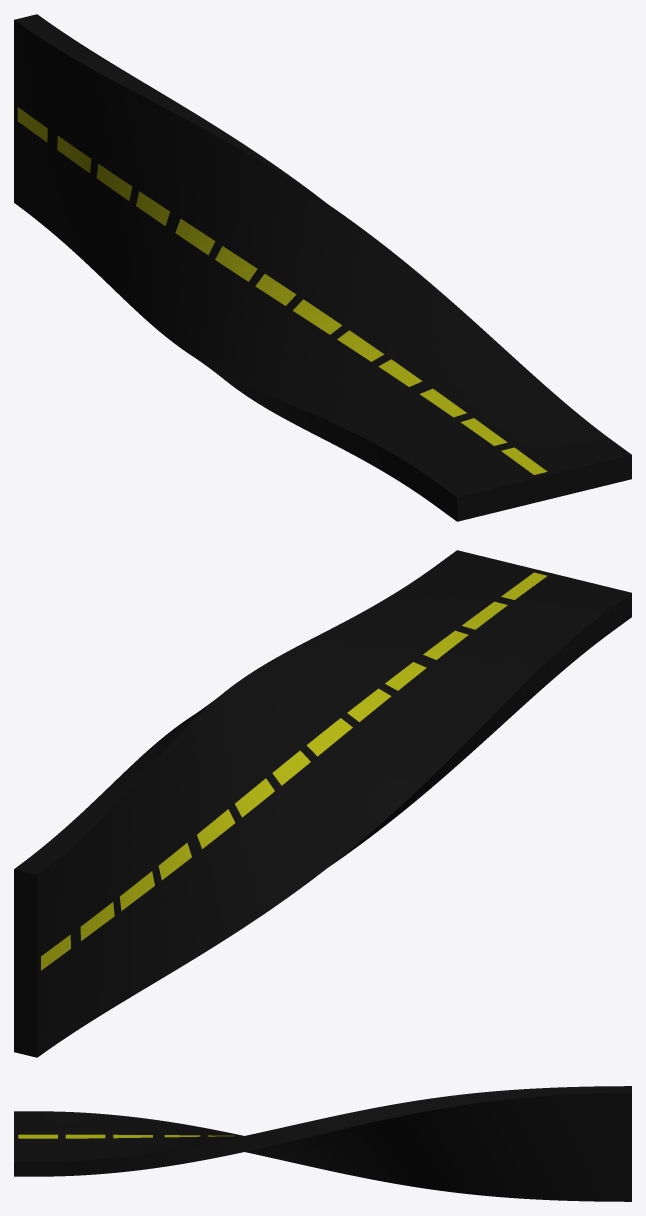
File: RoadSemiScrew.fbx
The picture shows the model from 3 angles, top to bottom: view 1: azimuth 30°, elevation 25°; view 2: azimuth 150°, elevation 25°; view 3: azimuth 270°, elevation 25°; orthographic projection. The views are drawn at different scales.
Parts seen in each view (by area): view 1: Cube.001; view 2: Cube.001; view 3: Cube.001.
Part boxes in pixels (box(x1,y1,x2,y2)): Cube.001: box(14, 14, 631, 521); Cube.001: box(14, 550, 631, 1057); Cube.001: box(14, 1086, 631, 1201).
Bounding box in the file's own units: 1119 × 1119 × 5703.
